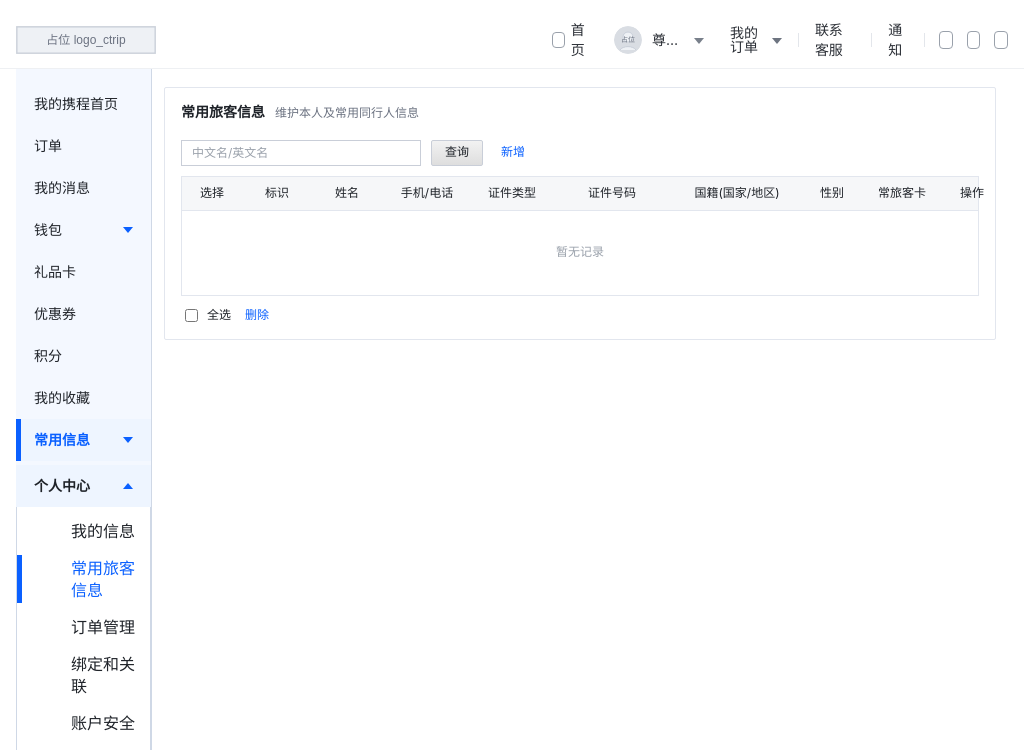
Test: 个人中心 - 常用旅客信息列表页 场景用例 › 导航: 常用旅客页左侧导航栏可跳转订单管理/个人信息
The width and height of the screenshot is (1024, 750).
Click the link "订单管理".
click(103, 627)  # box [71,617,135,637]
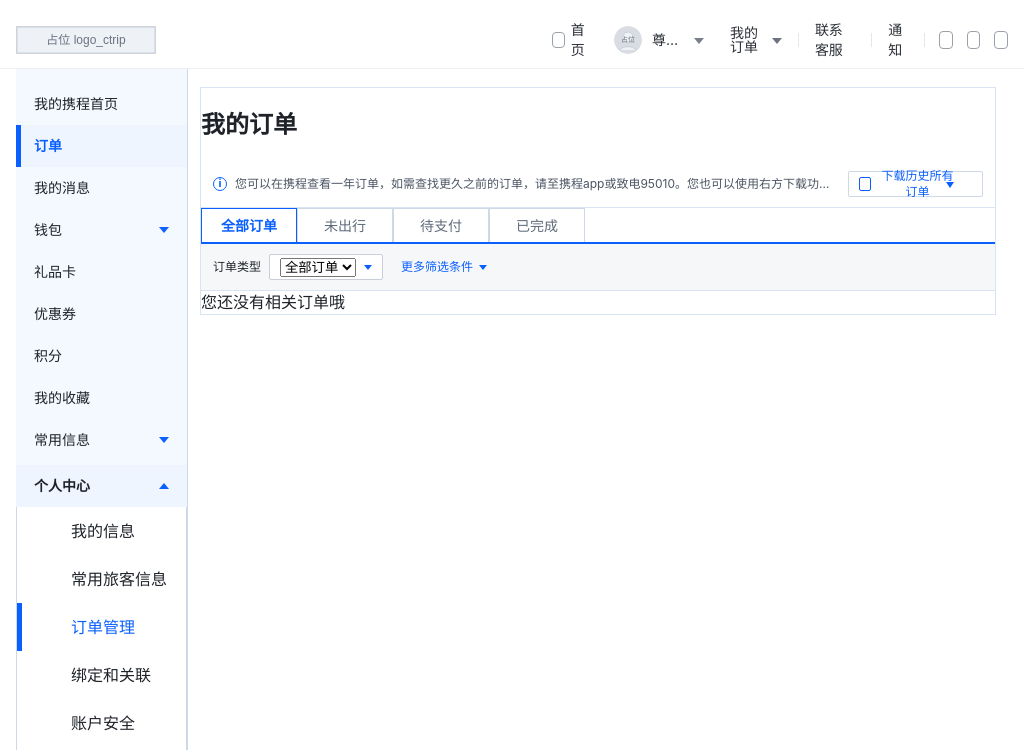
Expected: the heading "我的订单" is shown, [201,110,297,139]
Click the link "我的信息".
click(103, 531)  # box [71,521,135,541]
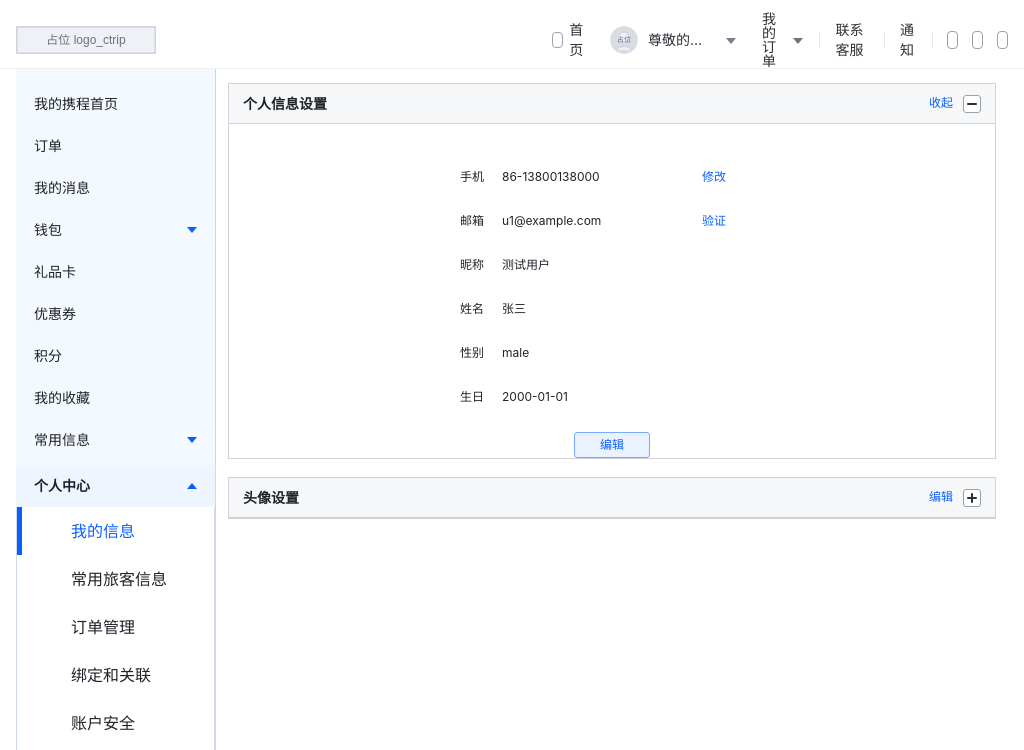
Expected: the text "个人信息设置" is shown, [243,94,327,113]
